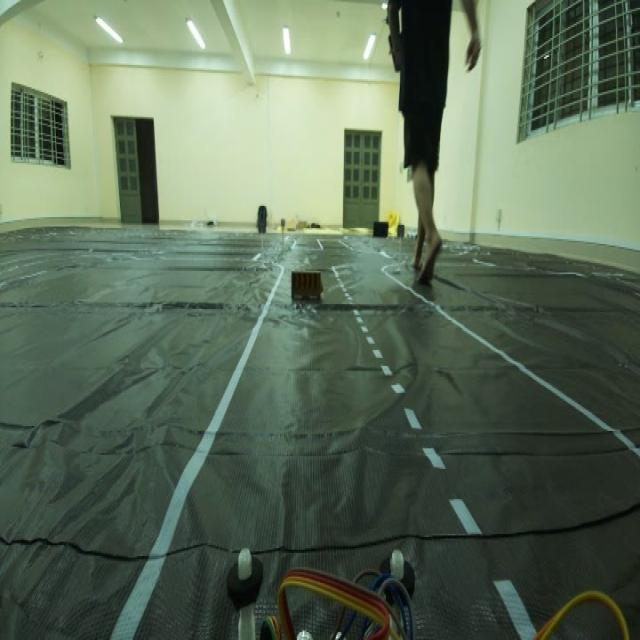roadblock: (286, 262, 326, 310)
